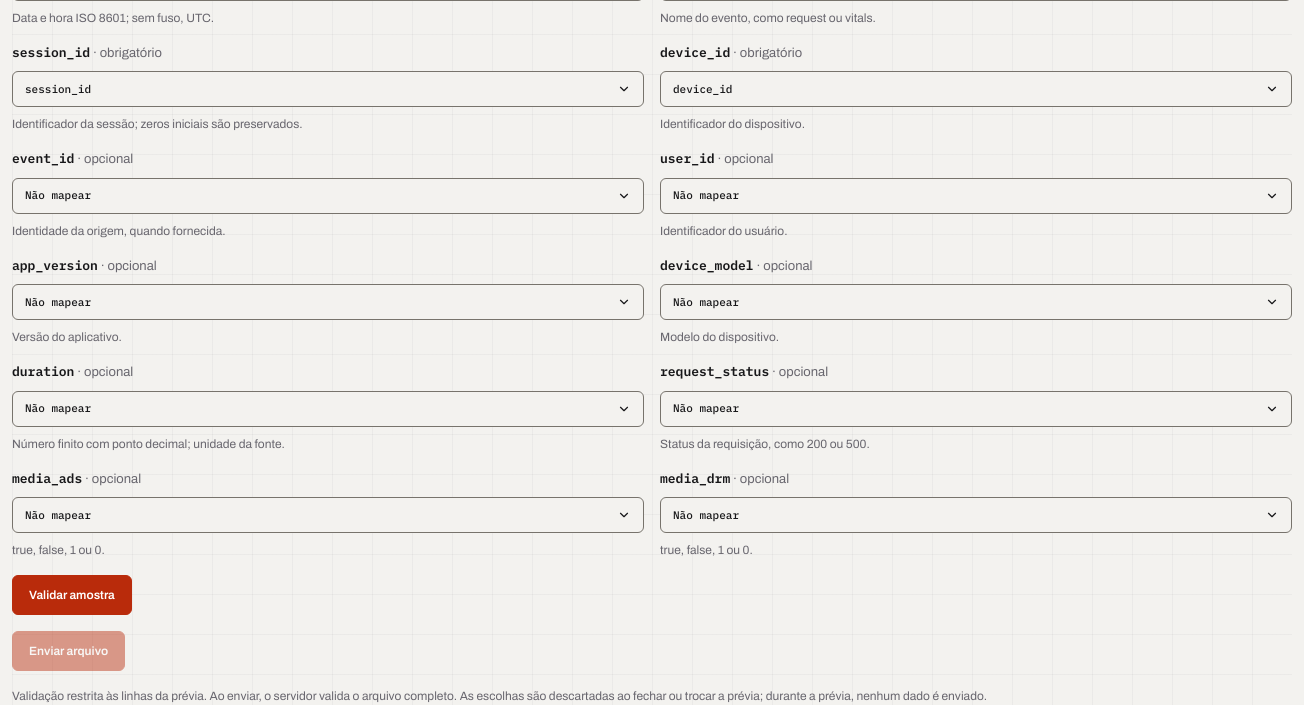
Test: formulário de mapeamento › erro na amostra identifica linha e campo
This screenshot has width=1304, height=705.
(page scrolled)
Click the button "Validar amostra" at (72, 595), box [12, 575, 132, 615]
(page scrolled)
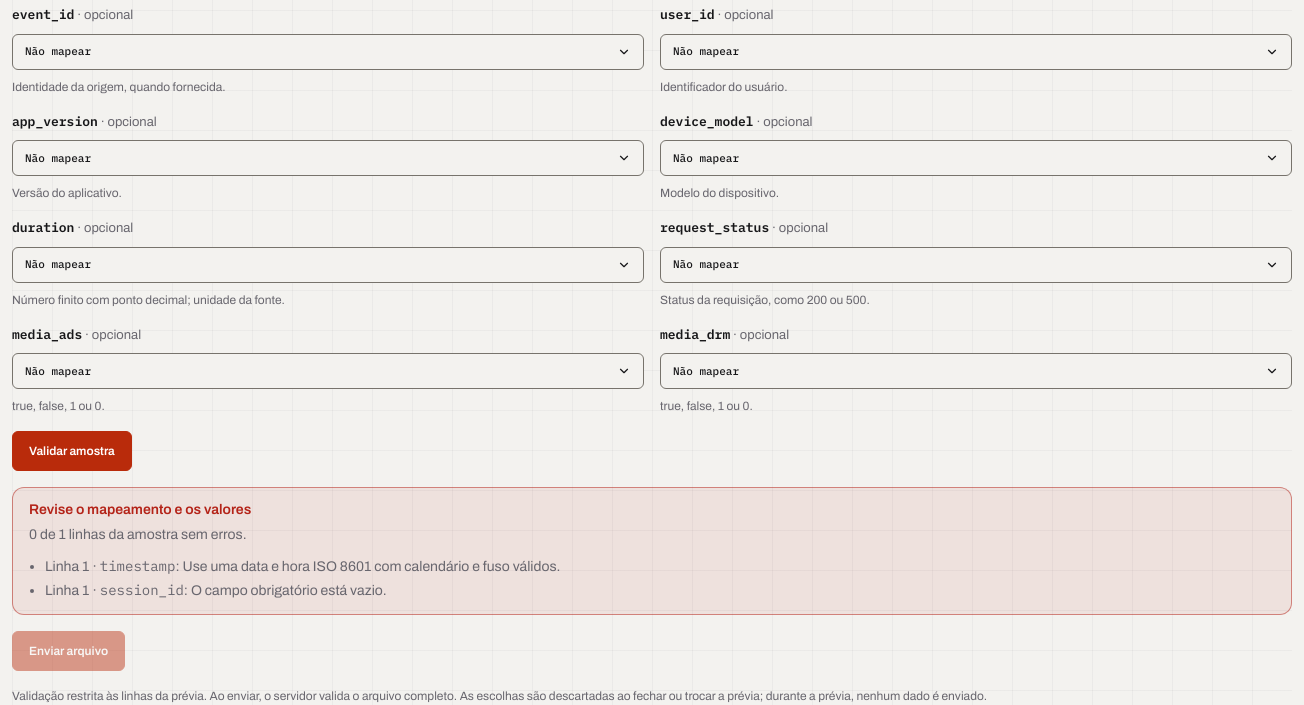
Check: the message shows "Linha 1 · timestamp", box [12, 487, 1292, 615]
Check: the message shows "Linha 1 · session_id", box [12, 487, 1292, 615]
Check: the message shows "0 de 1 linhas", box [12, 487, 1292, 615]
